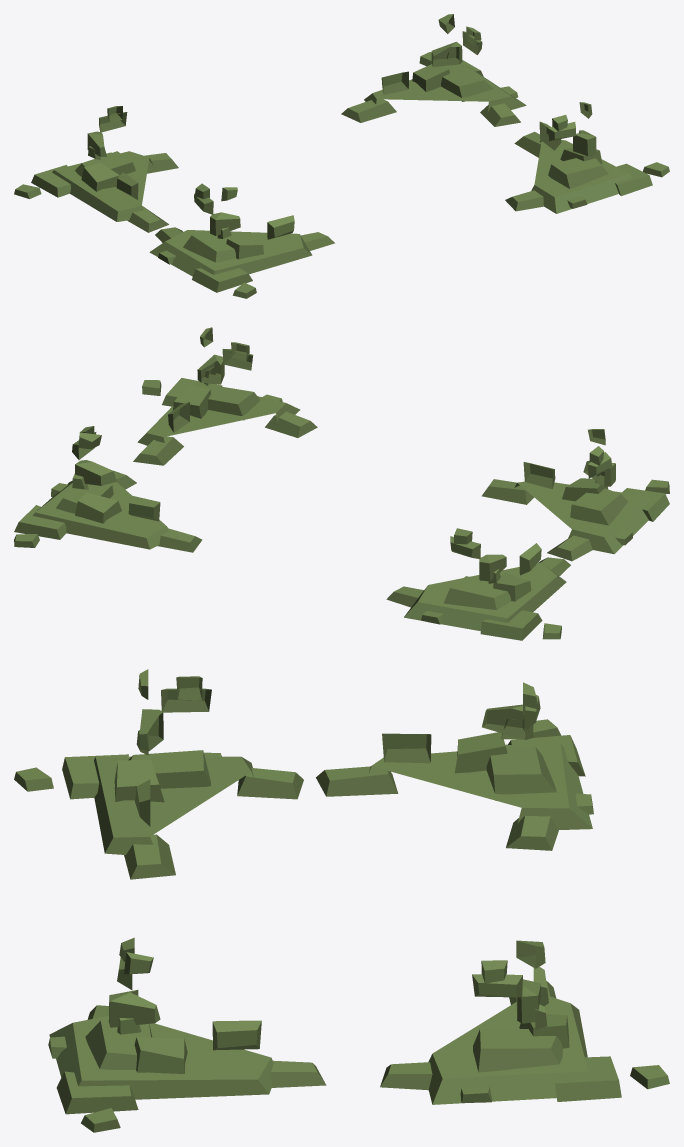
File: SA_Bld_ShopOld_Growth_02.gltf
3 views of the same model, one above another, from view 1: azimuth 30°, elevation 25°; view 2: azimuth 150°, elevation 25°; view 3: azimuth 270°, elevation 25° (orthographic). The views are drawn at different scales.
Parts seen in each view (by area): view 1: SA_Bld_ShopOld_Growth_02; view 2: SA_Bld_ShopOld_Growth_02; view 3: SA_Bld_ShopOld_Growth_02.
Part boxes in pixels (<box>): SA_Bld_ShopOld_Growth_02: <box>14,14,669,298</box>; SA_Bld_ShopOld_Growth_02: <box>14,327,669,640</box>; SA_Bld_ShopOld_Growth_02: <box>14,669,669,1132</box>.
Size of the model in its own units: 30.48 by 4.43 by 20.79.
1 material, 1 textured.
